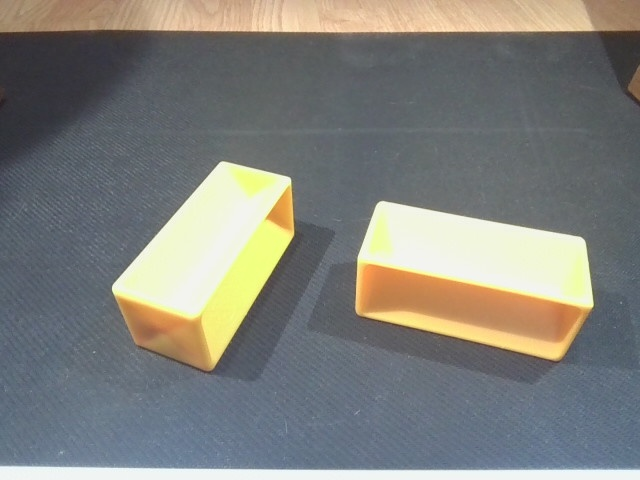YellowSample: (350, 195, 600, 382), (107, 157, 302, 374)
